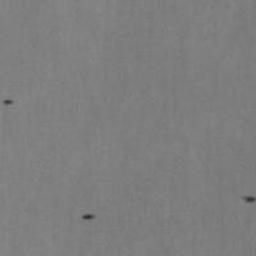Inclusion: (243, 195, 256, 204), (82, 214, 96, 221), (1, 99, 14, 105)
